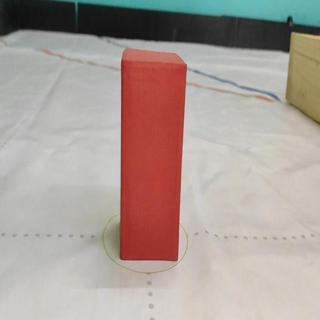redbox: (119, 47, 187, 261)
